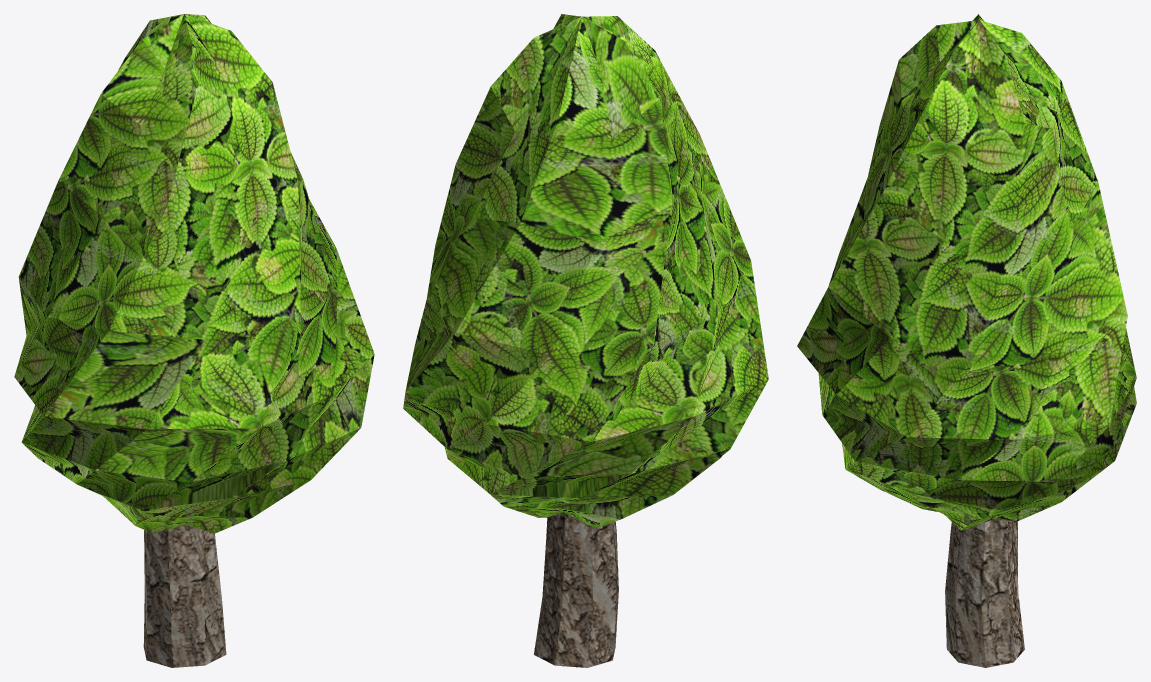
File: tree2.fbx
The picture shows the model from 3 angles, left to right: view 1: azimuth 30°, elevation 25°; view 2: azimuth 150°, elevation 25°; view 3: azimuth 270°, elevation 25°; orthographic projection. The views are drawn at different scales.
Parts seen in each view (by area): view 1: smalltree1:Shrub_04; view 2: smalltree1:Shrub_04; view 3: smalltree1:Shrub_04.
Boxes of the visible parts, x1,y1,x2,y2 form: smalltree1:Shrub_04: (14, 14, 374, 667); smalltree1:Shrub_04: (403, 14, 768, 667); smalltree1:Shrub_04: (797, 14, 1136, 667).
Size of the model in its own units: 7.68 by 14.79 by 7.25.
1 material, 1 textured.
